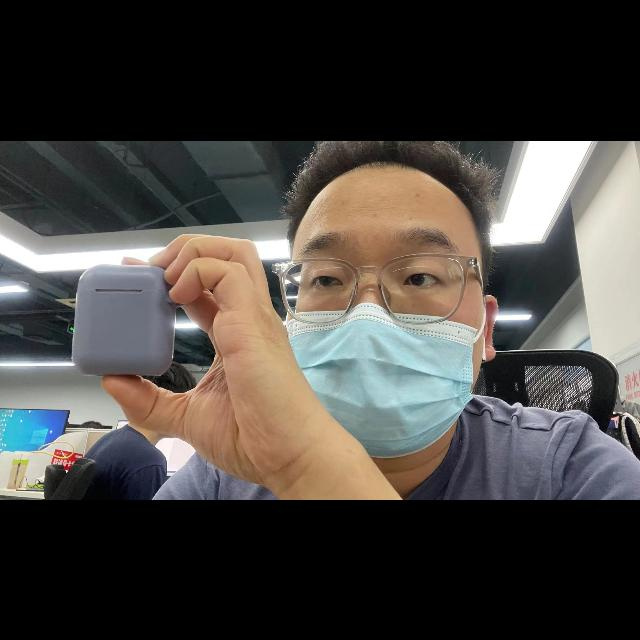airpods: (73, 263, 178, 377)
